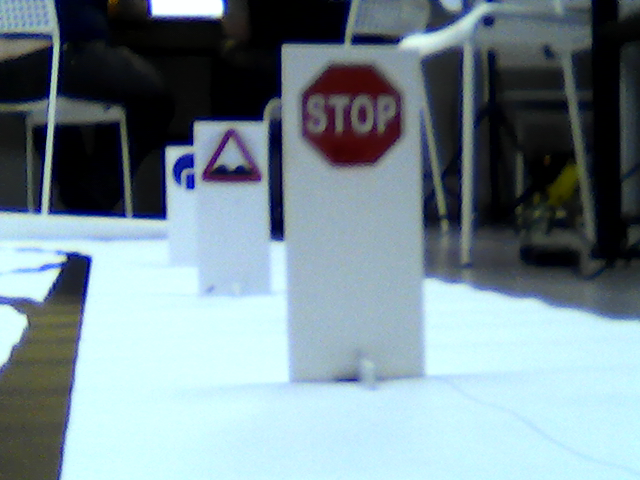Nerov: (205, 128, 263, 184)
Stop: (301, 58, 406, 169)
